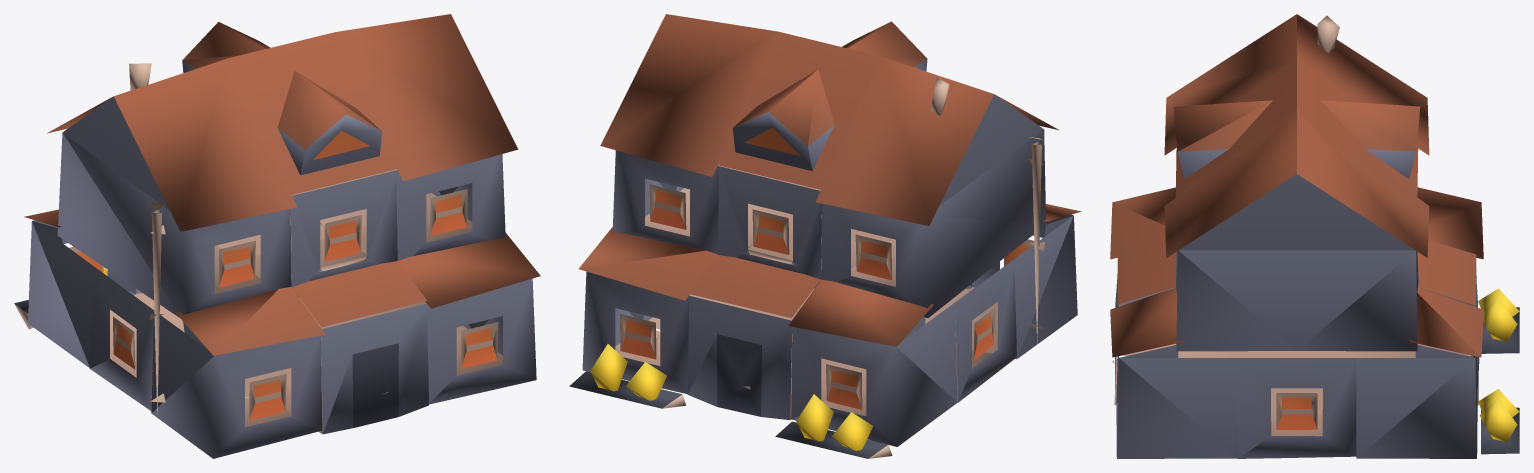
Rendered from casa_t.fbx.
3 views of the same model, side by side, from view 1: azimuth 30°, elevation 25°; view 2: azimuth 150°, elevation 25°; view 3: azimuth 270°, elevation 25° (orthographic). The views are drawn at different scales.
Visible parts, largest first — view 1: casa_t; view 2: casa_t; view 3: casa_t.
Boxes of the visible parts, x1,y1,x2,y2 form: casa_t: [14, 14, 540, 458]; casa_t: [569, 14, 1081, 458]; casa_t: [1110, 14, 1519, 458].
Bounding box in the file's own units: 1.3 × 1.15 × 1.38.
